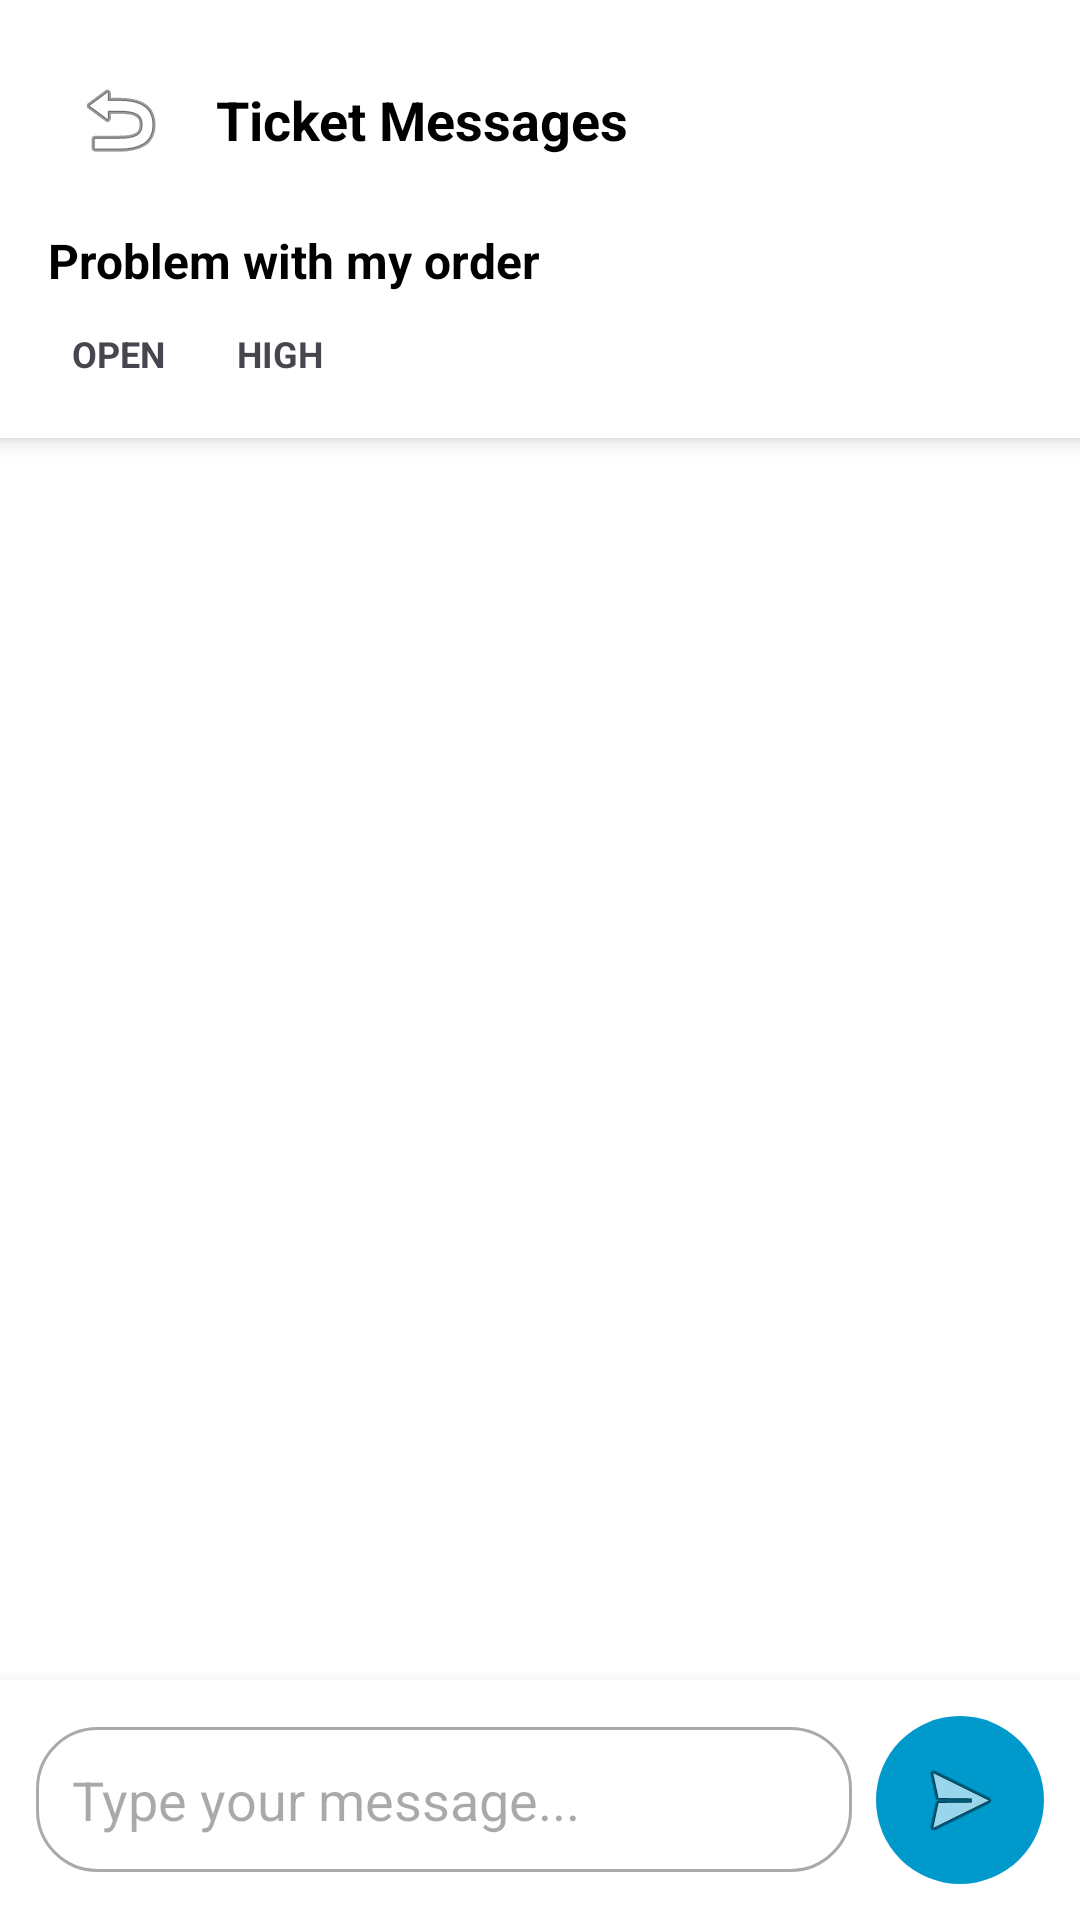

Where to tap for icons on this 1080x1920 app screen, as (x,y):
Back: (121,120)
Send Message: (960,1800)
